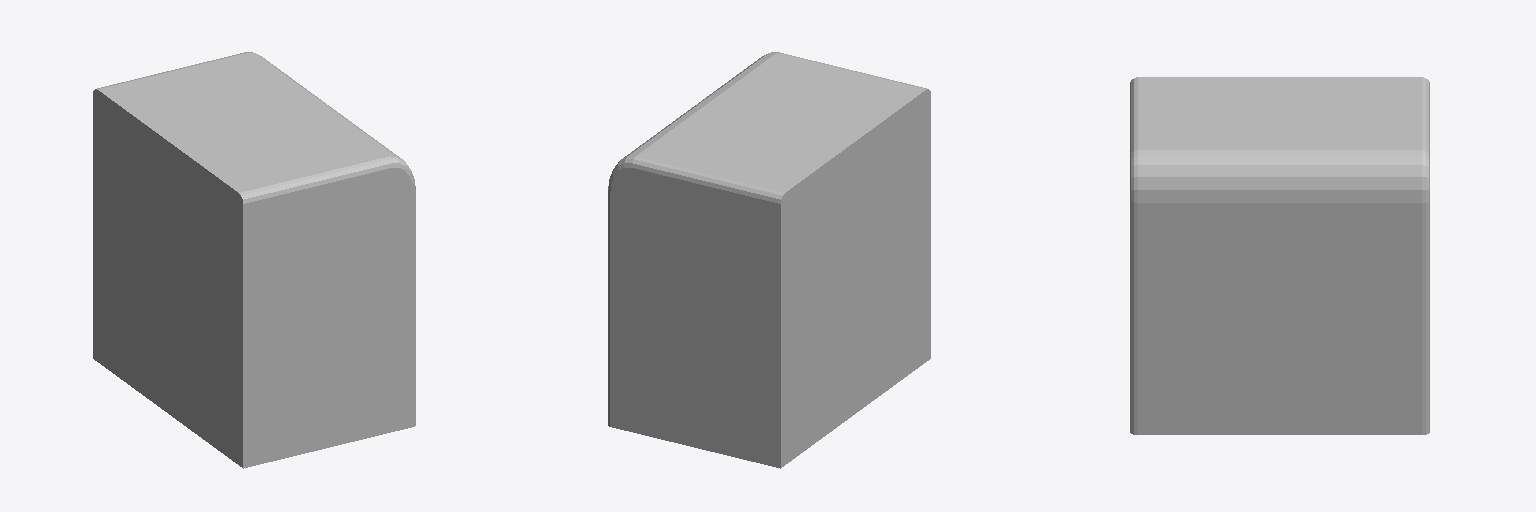
File: TissueBox.obj
3 views of the same model, side by side, from view 1: azimuth 30°, elevation 25°; view 2: azimuth 150°, elevation 25°; view 3: azimuth 270°, elevation 25° (orthographic).
Visible parts, largest first — view 1: Cube.016; view 2: Cube.016; view 3: Cube.016.
Boxes of the visible parts, x1=… form: Cube.016: x1=93, y1=52, x2=415, y2=468; Cube.016: x1=608, y1=52, x2=930, y2=468; Cube.016: x1=1130, y1=77, x2=1429, y2=434.
Bounding box in the file's own units: 1.35 × 2 × 2.